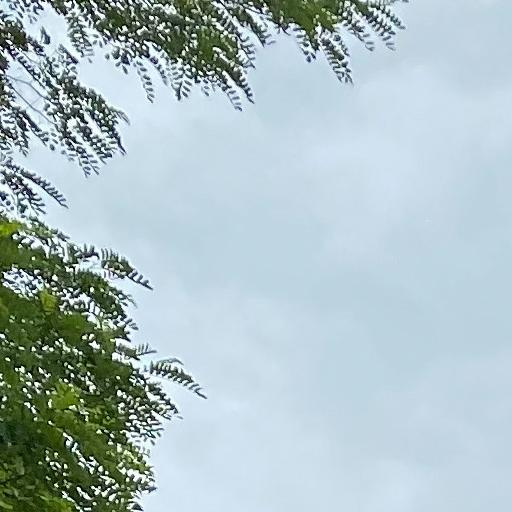tree: (1, 1, 409, 512)
